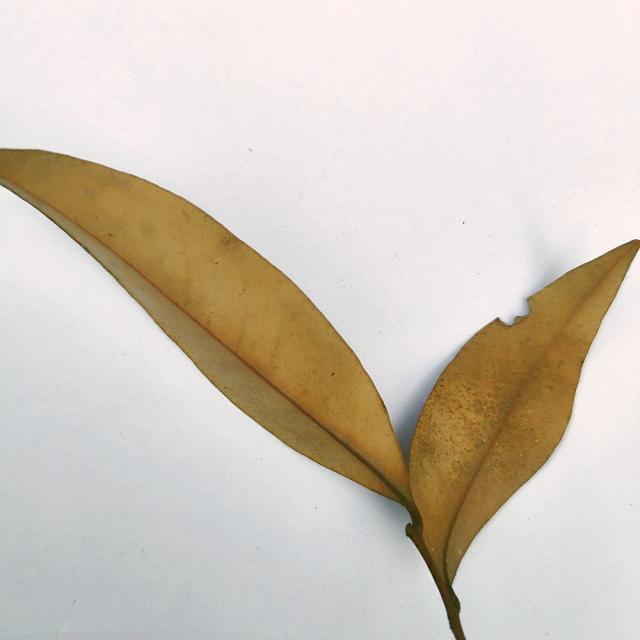Dry_Leaf-Lychee: (0, 148, 632, 612)
